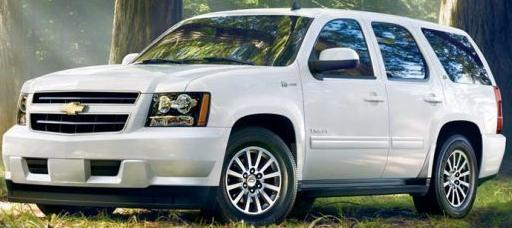front_view: (0, 71, 227, 207)
headlight: (141, 87, 216, 135)
side_glass: (303, 16, 495, 85)
